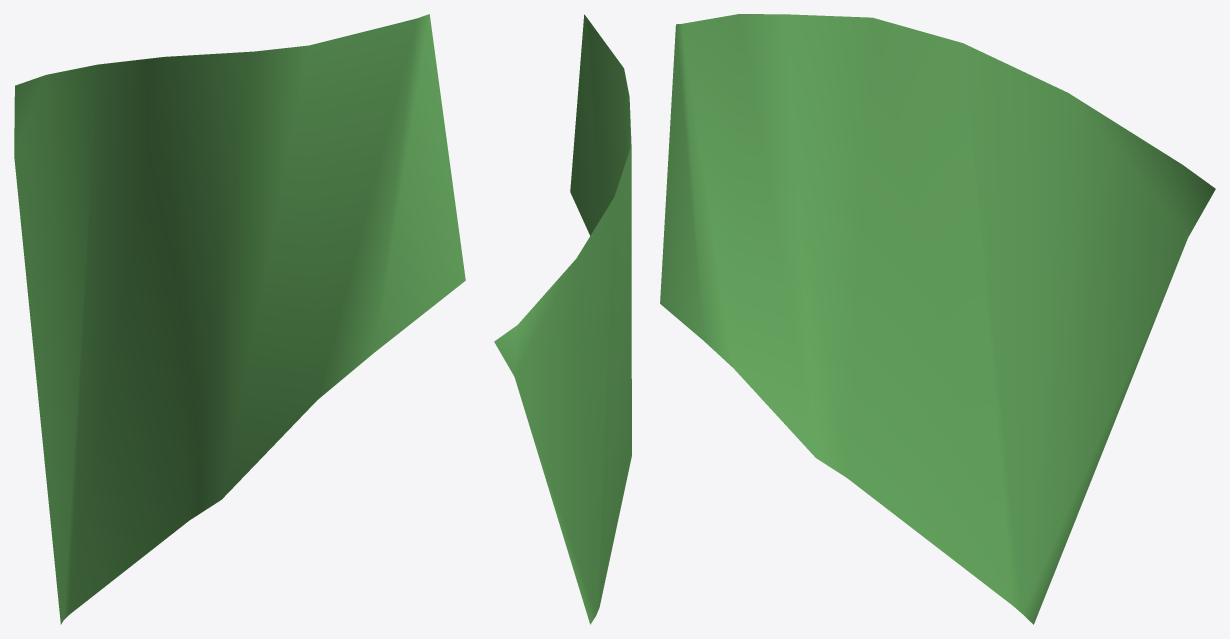
Rendered from shard3.fbx.
3 views of the same model, side by side, from view 1: azimuth 30°, elevation 25°; view 2: azimuth 150°, elevation 25°; view 3: azimuth 270°, elevation 25° (orthographic). The views are drawn at different scales.
Parts seen in each view (by area): view 1: Circle; view 2: Circle; view 3: Circle.
Boxes of the visible parts, left/top/right/bottom form: Circle: left=14, top=14, right=465, bottom=624; Circle: left=494, top=14, right=631, bottom=624; Circle: left=660, top=14, right=1215, bottom=624.
Bounding box in the file's own units: 31.26 × 94.76 × 68.97.
